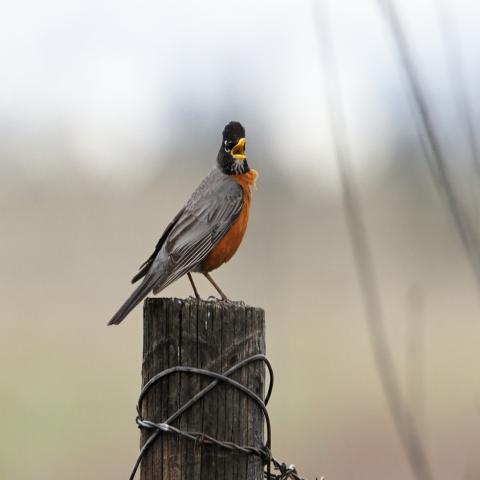bird: (106, 119, 259, 327)
